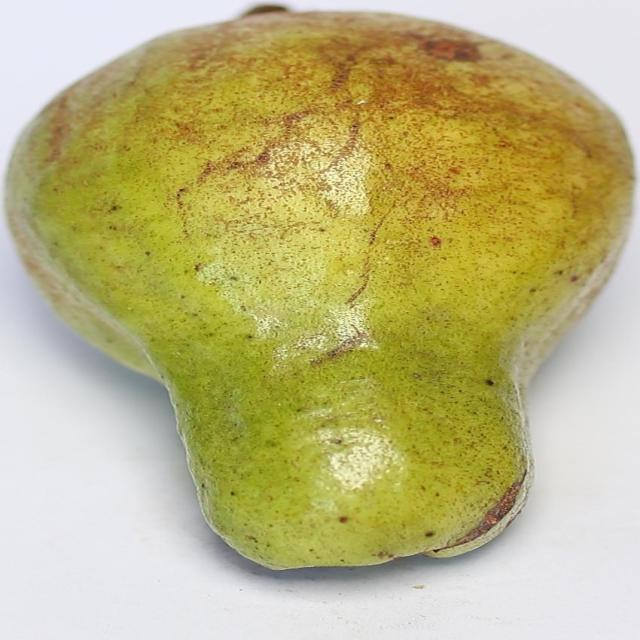Good_Guava: (2, 7, 635, 574)
